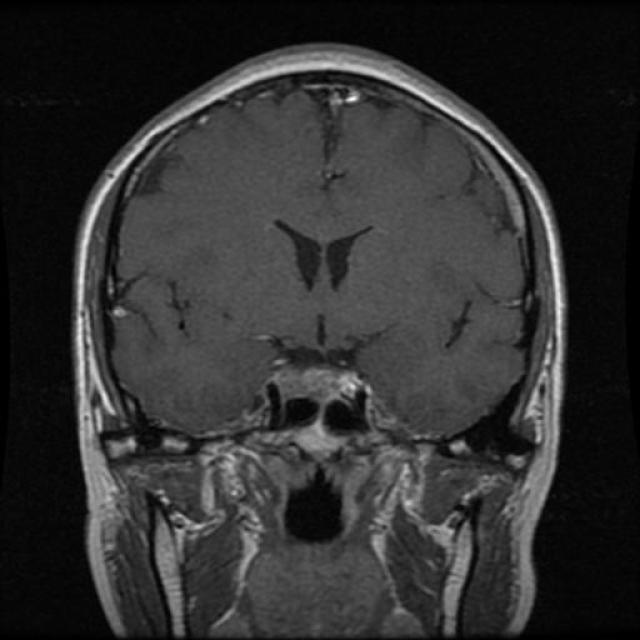pituitary: (258, 336, 376, 468)
